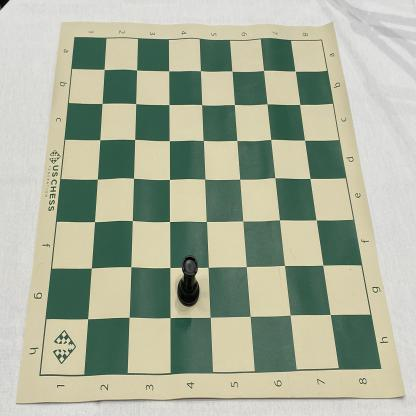black-rook: (176, 253, 201, 308)
